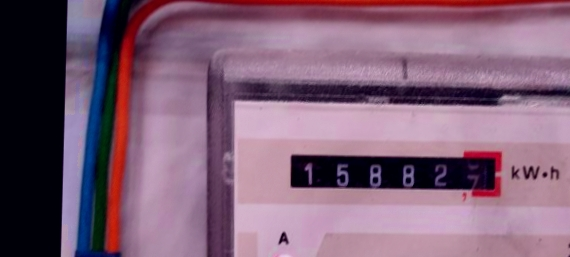1: (299, 158, 314, 186)
2: (430, 160, 447, 189)
5: (331, 160, 350, 187)
7: (462, 171, 478, 189)
8: (364, 161, 381, 189), (398, 160, 414, 189)
screen: (273, 137, 510, 205)
